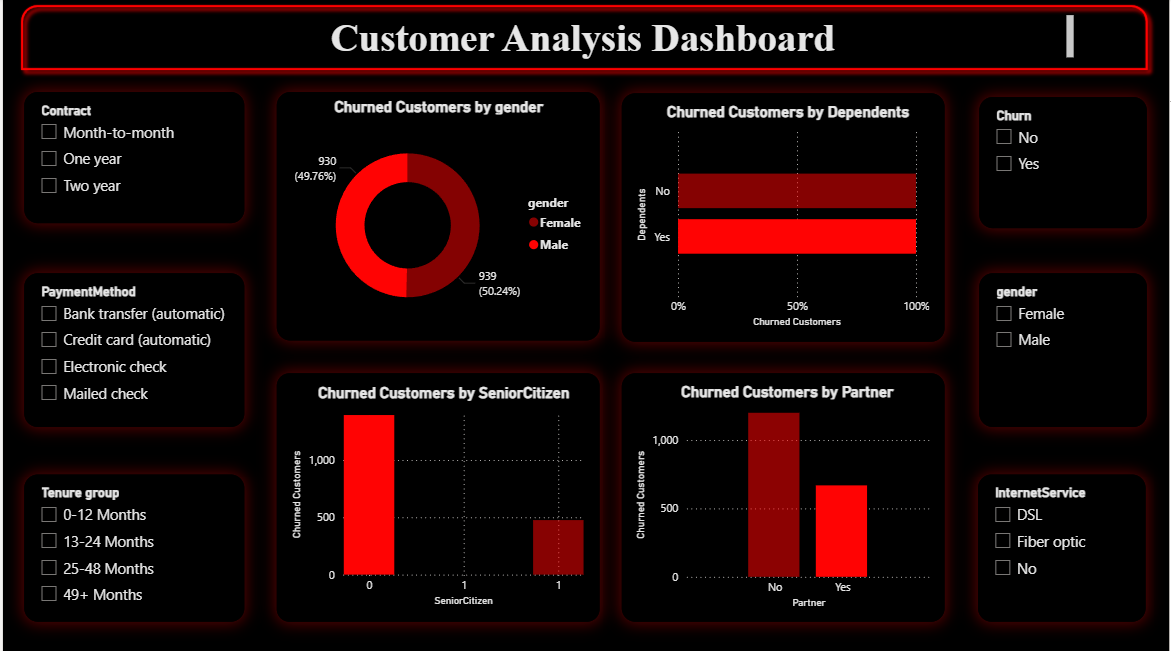

Layout of this report page (visuals, bound fields, positions):
{"tool":"powerbi","page":{"name":"Page 2","canvas":[1280,720],"ordinal":1},"visuals":[{"type":"shape","box":[10.8,0,1254.6,89.2],"z":0},{"type":"donutChart","fields":{"Category":["Telecom.gender"],"Y":["Telecom.Churned Customers"]},"box":[300.5,104.3,354,273.1],"z":1000},{"type":"clusteredColumnChart","fields":{"Category":["Telecom.SeniorCitizen"],"Y":["Telecom.Churned Customers"]},"box":[300.5,413,354,273.1],"z":2000},{"type":"barChart","fields":{"Category":["Telecom.Dependents"],"Y":["Telecom.Churned Customers"]},"box":[679.2,105.7,354,273.1],"z":3000},{"type":"columnChart","fields":{"Category":["Telecom.Partner"],"Y":["Telecom.Churned Customers"]},"box":[679.2,413,354,273.1],"z":4000},{"type":"slicer","fields":{"Values":["Telecom.gender"]},"box":[1071.7,303.3,183.9,168.8],"z":5000},{"type":"slicer","fields":{"Values":["Telecom.PaymentMethod"]},"box":[23.3,303.3,241.5,168.8],"z":6000},{"type":"slicer","fields":{"Values":["Telecom.InternetService"]},"box":[1070.3,524.2,183.9,161.9],"z":7000},{"type":"slicer","fields":{"Values":["Telecom.Contract"]},"box":[23.3,104.3,241.5,144.1],"z":8000},{"type":"slicer","fields":{"Values":["Telecom.Tenure group"]},"box":[23.3,524.2,241.5,161.9],"z":9000},{"type":"slicer","fields":{"Values":["Telecom.Churn"]},"box":[1071.7,109.8,183.9,144.1],"z":10000},{"type":"textbox","box":[100.2,15.1,1079.9,57.6],"z":11000}]}

Visuals, with their boxes in screenshot pixels (x1, y1, x2, y2), scaled from the page's 1280x720 canvas onto the 1171x651 screenshot:
shape: crop(10, 0, 1158, 81)
donutChart - Telecom.gender x Telecom.Churned Customers: crop(275, 94, 599, 341)
clusteredColumnChart - Telecom.SeniorCitizen x Telecom.Churned Customers: crop(275, 373, 599, 620)
barChart - Telecom.Dependents x Telecom.Churned Customers: crop(621, 96, 945, 342)
columnChart - Telecom.Partner x Telecom.Churned Customers: crop(621, 373, 945, 620)
slicer - Telecom.gender: crop(980, 274, 1149, 427)
slicer - Telecom.PaymentMethod: crop(21, 274, 242, 427)
slicer - Telecom.InternetService: crop(979, 474, 1147, 620)
slicer - Telecom.Contract: crop(21, 94, 242, 225)
slicer - Telecom.Tenure group: crop(21, 474, 242, 620)
slicer - Telecom.Churn: crop(980, 99, 1149, 230)
textbox: crop(92, 14, 1080, 66)
